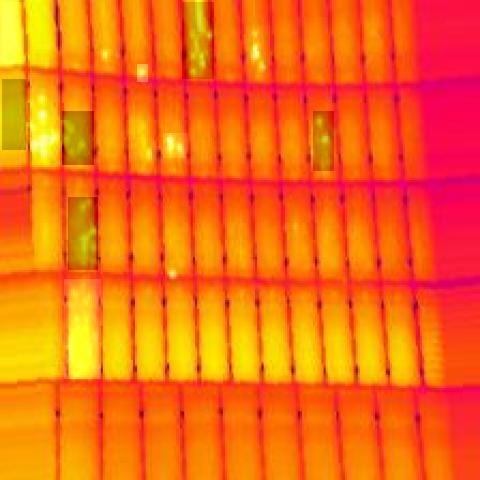fault: (64, 279, 101, 379), (28, 71, 58, 165), (182, 2, 214, 79), (26, 2, 61, 69), (68, 197, 98, 270), (62, 111, 94, 165), (2, 79, 26, 150), (242, 26, 270, 77), (2, 2, 24, 64), (313, 112, 334, 172), (163, 133, 188, 158), (137, 64, 148, 82), (165, 266, 178, 280), (101, 49, 111, 62)
